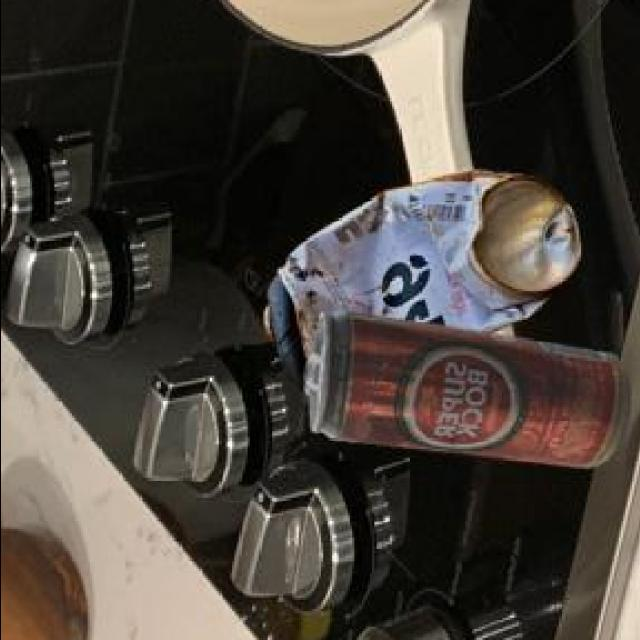logam: (261, 166, 577, 392), (301, 310, 626, 463)
